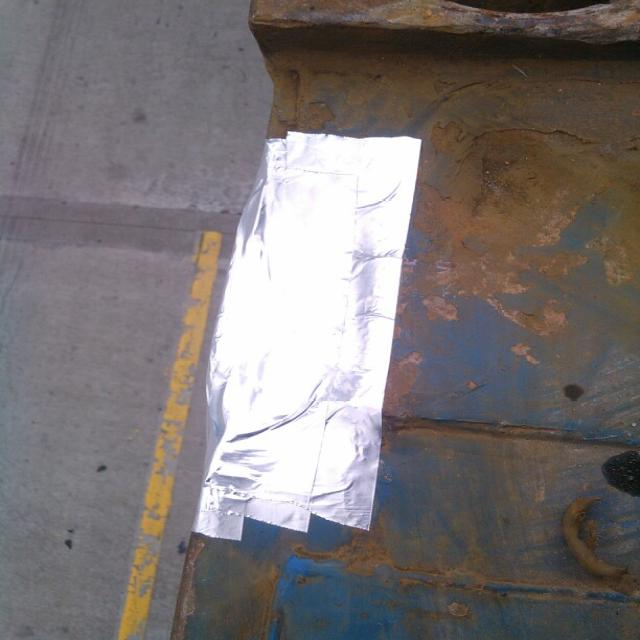rust: (423, 95, 583, 268)
